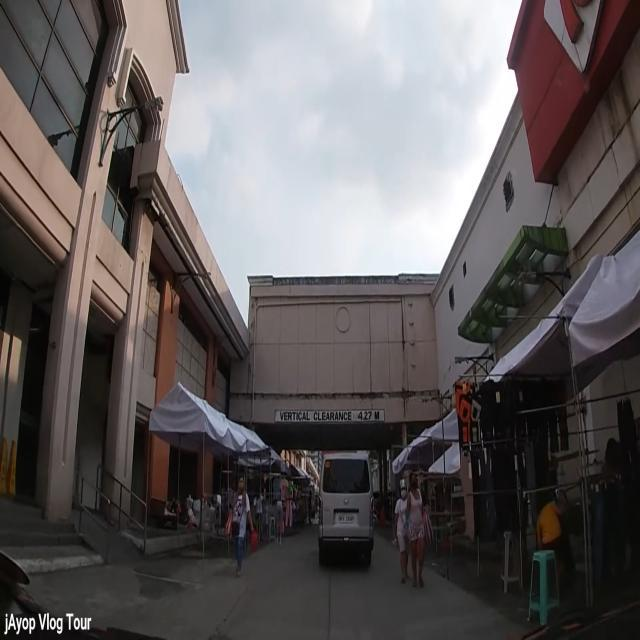car: (316, 447, 374, 567)
